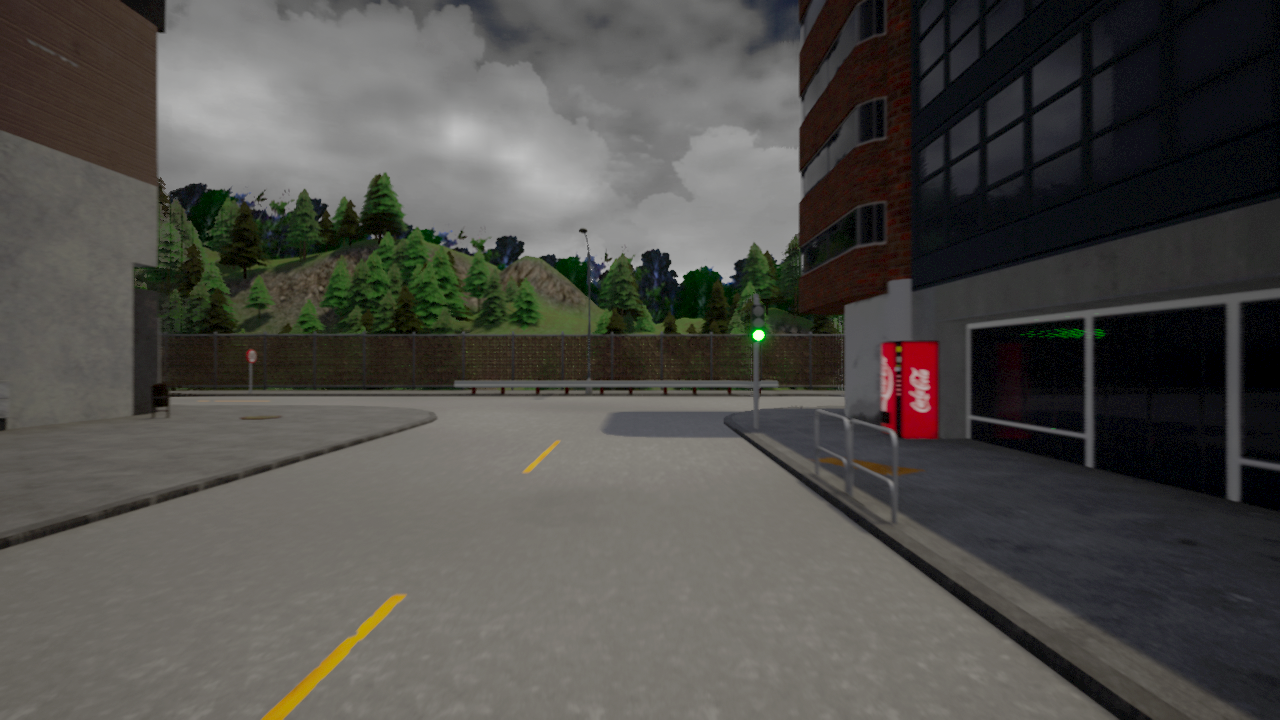green: (750, 302, 766, 344)
